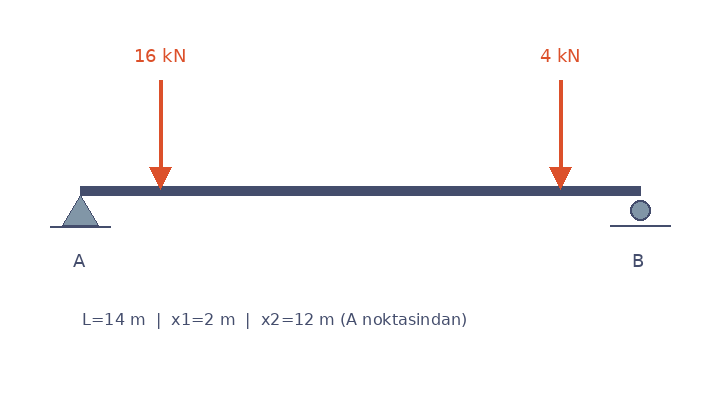pin_support: (61, 190, 99, 226)
point_load: (146, 76, 174, 190), (546, 76, 574, 190)
roller_support: (625, 196, 655, 227)
